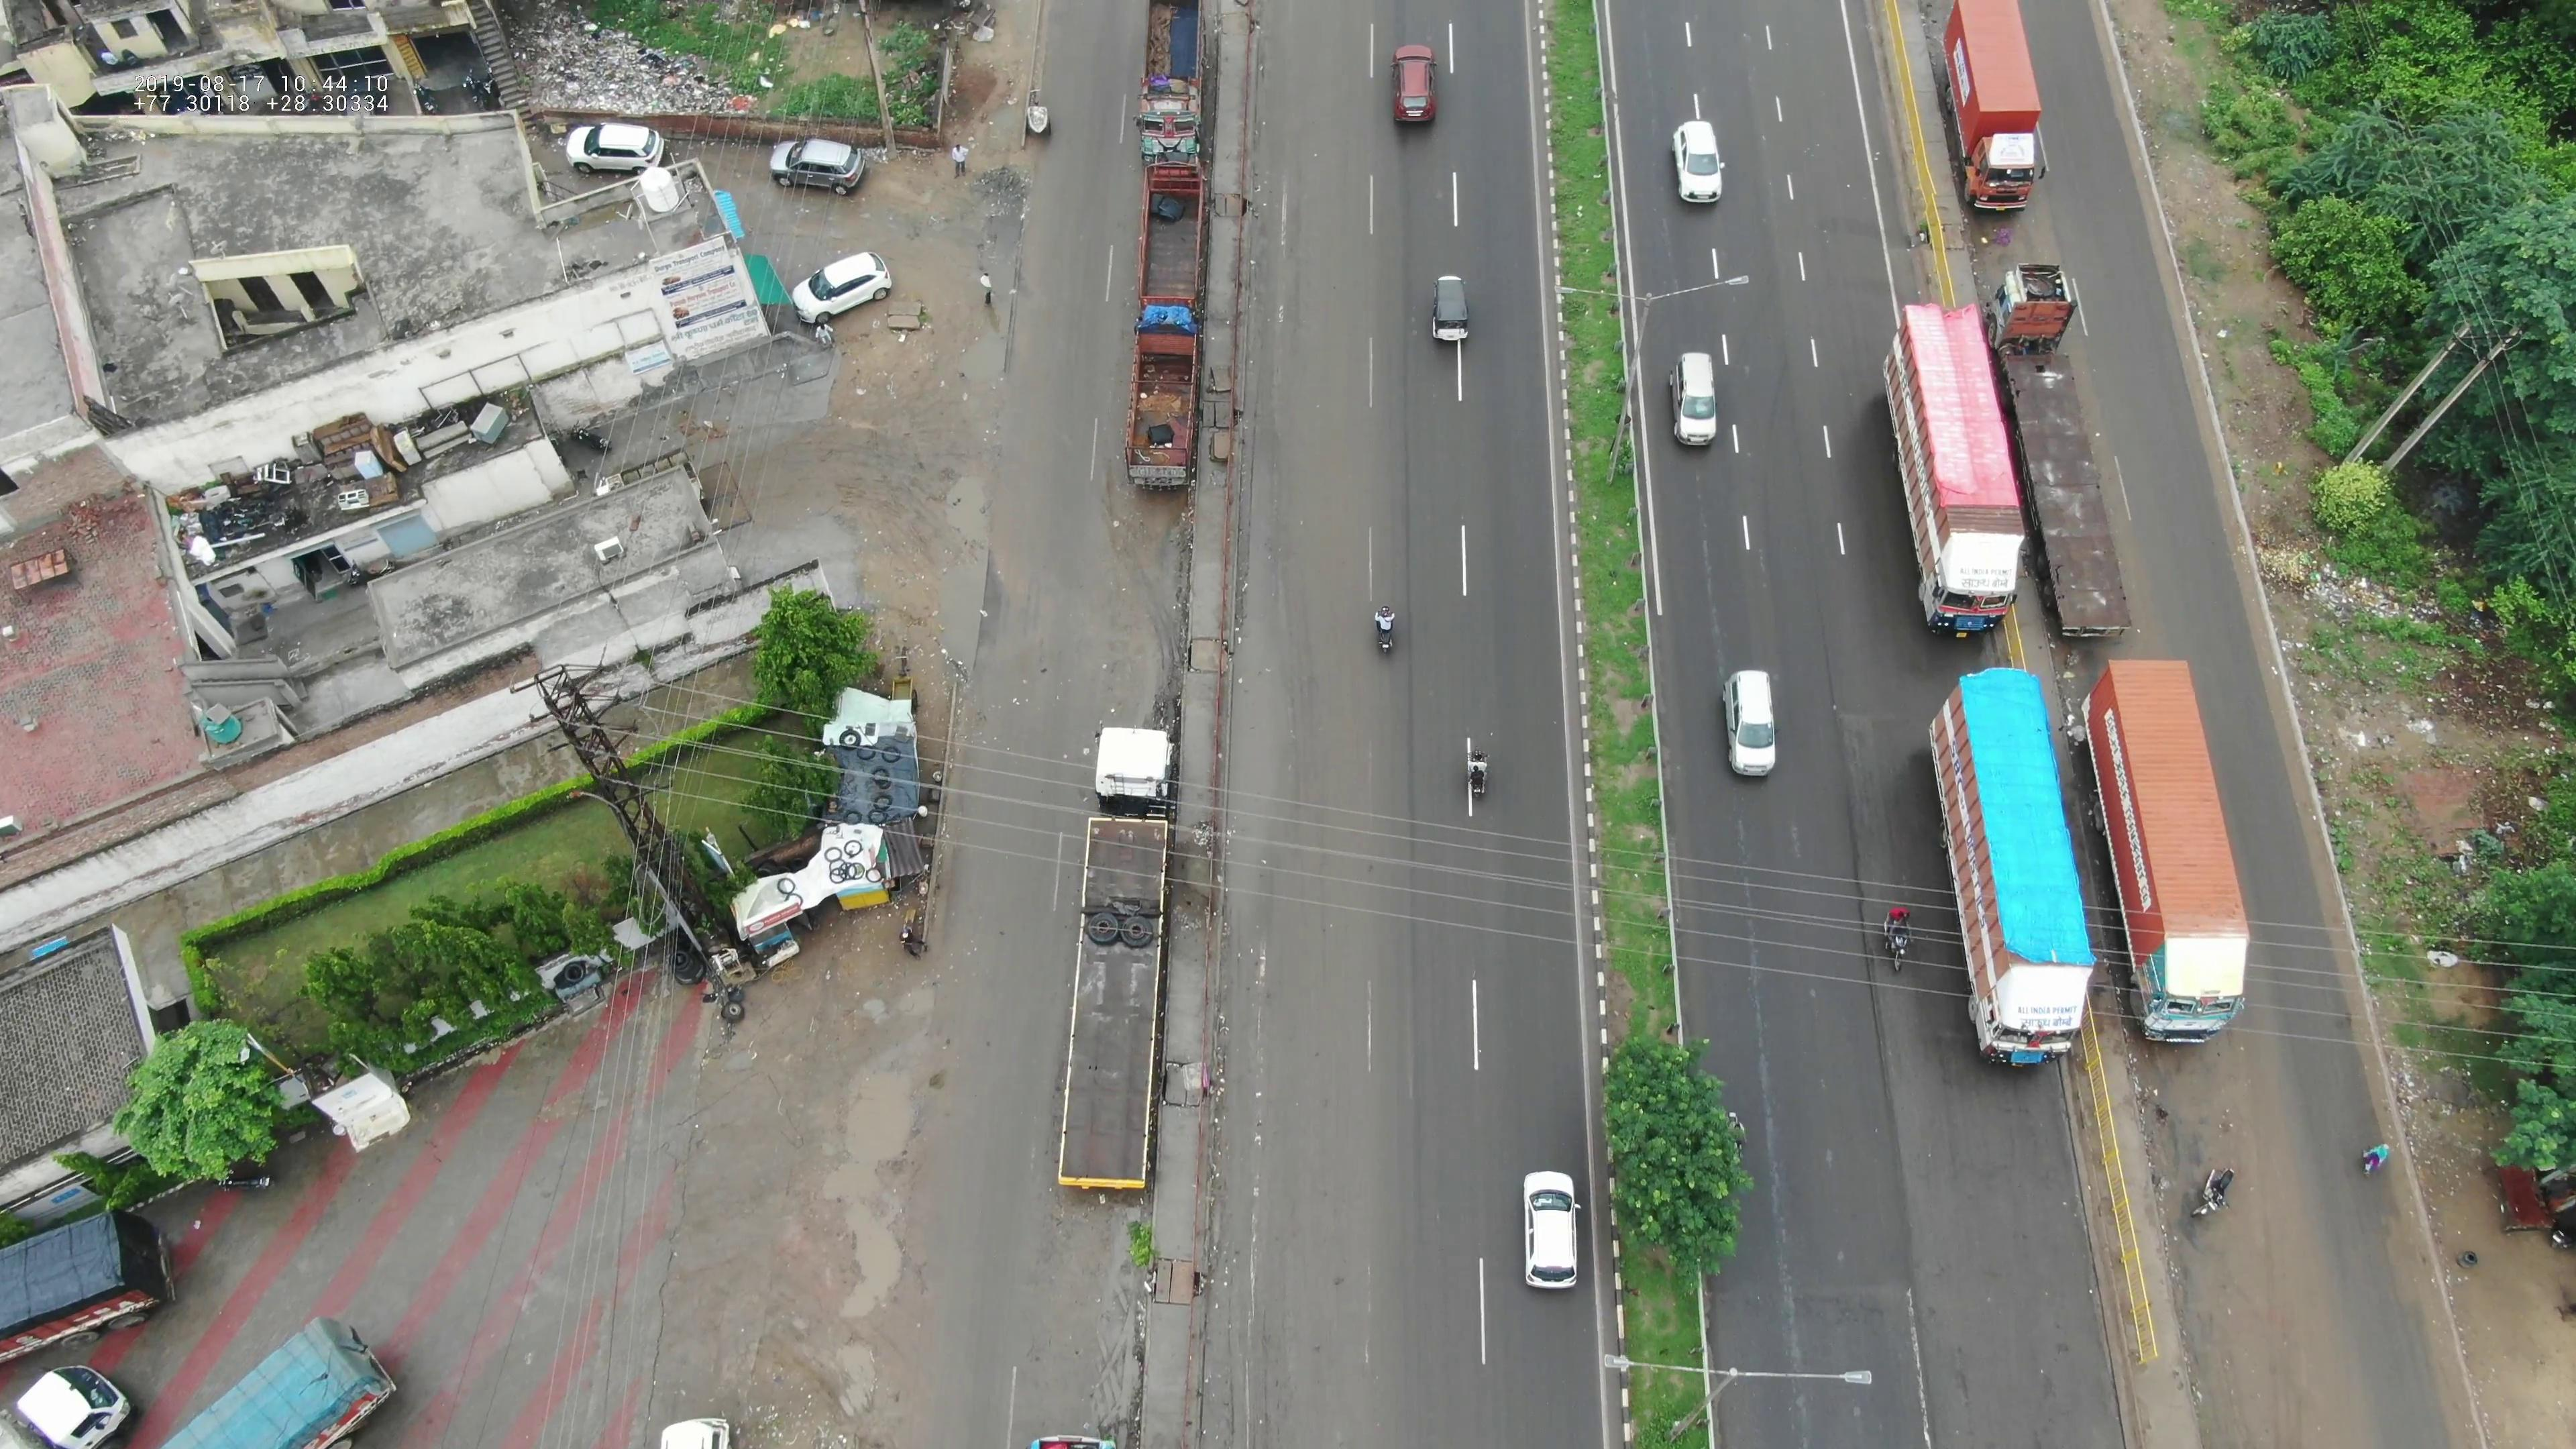Muddy_road: (2174, 1164, 2302, 1440), (1228, 533, 1295, 897), (1037, 1205, 1136, 1405)
